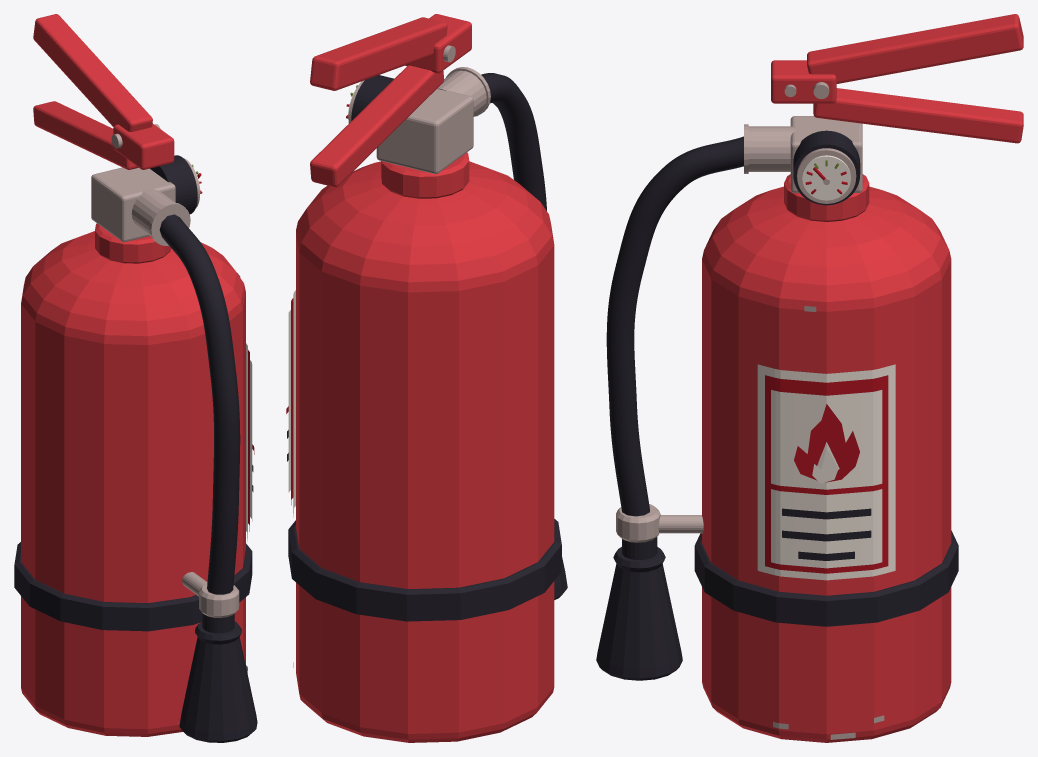
The picture shows the model from 3 angles, left to right: view 1: azimuth 30°, elevation 25°; view 2: azimuth 150°, elevation 25°; view 3: azimuth 270°, elevation 25°; orthographic projection. The views are drawn at different scales.
Visible parts, largest first — view 1: body, static_pal_uiDark, static_pal_sidewalk, lever, static_pal_picketWhite; view 2: body, static_pal_uiDark, static_pal_sidewalk, lever, static_pal_picketWhite, static_pal_blood; view 3: body, static_pal_uiDark, static_pal_picketWhite, static_pal_blood, static_pal_sidewalk, lever.
Boxes of the visible parts, x1,y1,x2,y2 form: body: (21,101,245,736); static_pal_uiDark: (14,155,257,742); static_pal_sidewalk: (91,124,247,673); lever: (33,14,152,131); static_pal_picketWhite: (194,169,252,541); body: (296,14,554,742); static_pal_uiDark: (287,73,567,621); static_pal_sidewalk: (293,45,490,667); lever: (310,17,447,90); static_pal_picketWhite: (288,91,354,517); static_pal_blood: (286,104,349,505); body: (702,60,1023,742); static_pal_uiDark: (596,130,958,680); static_pal_picketWhite: (757,155,895,580); static_pal_blood: (765,167,888,573); static_pal_sidewalk: (616,82,884,739); lever: (807,14,1023,83).
Size of the model in its own units: 0.412 by 1.14 by 0.6512.
